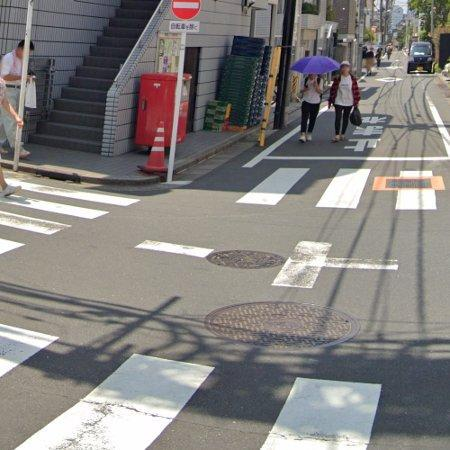crosswalks: (0, 176, 141, 262)
